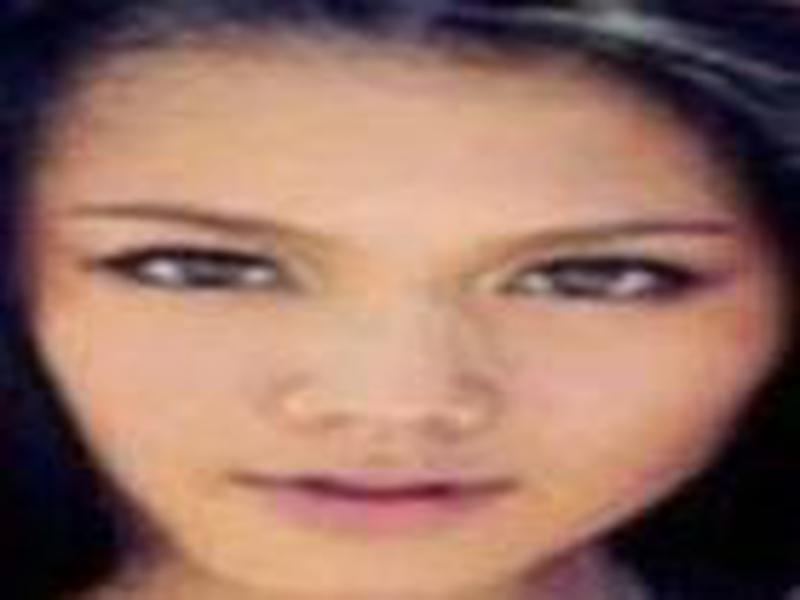without_mask: (34, 48, 757, 582)
